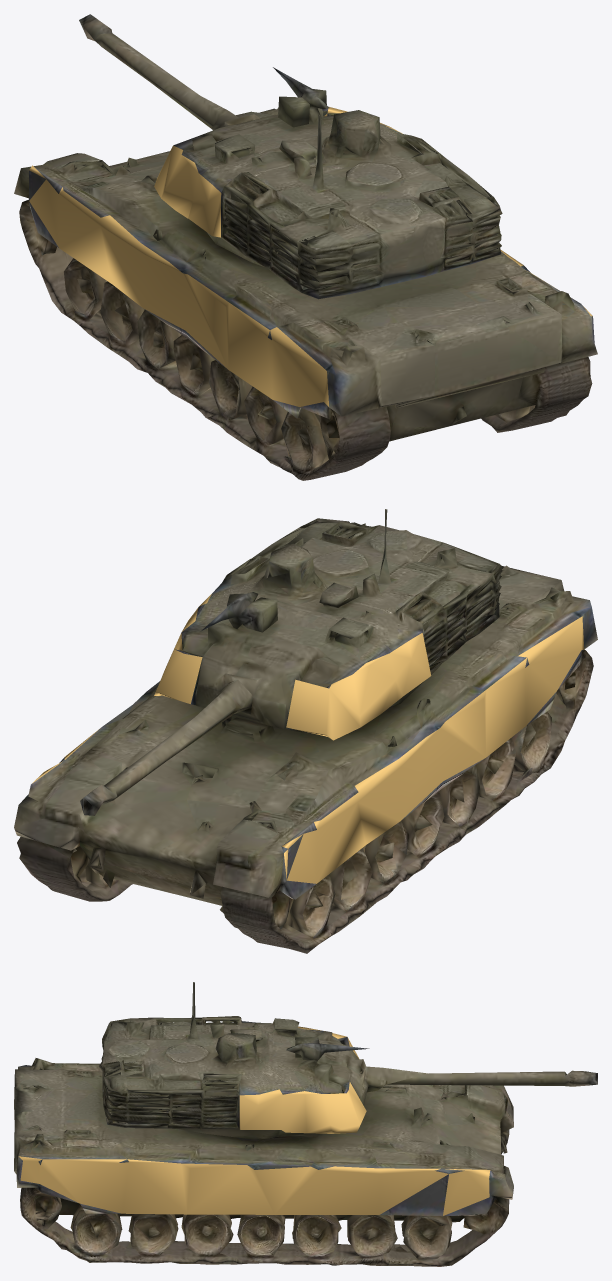
File: battle_tank.glb
3 renders of one model, top to bottom at view 1: azimuth 30°, elevation 25°; view 2: azimuth 150°, elevation 25°; view 3: azimuth 270°, elevation 25°, orthographic. The views are drawn at different scales.
Visible parts, largest first — view 1: Model; view 2: Model; view 3: Model.
Boxes of the visible parts, x1=… form: Model: x1=14, y1=14, x2=597, y2=480; Model: x1=14, y1=509, x2=597, y2=953; Model: x1=14, y1=982, x2=597, y2=1266.
Bounding box in the file's own units: 0.7742 × 0.8566 × 2.
2 materials, 1 textured.
